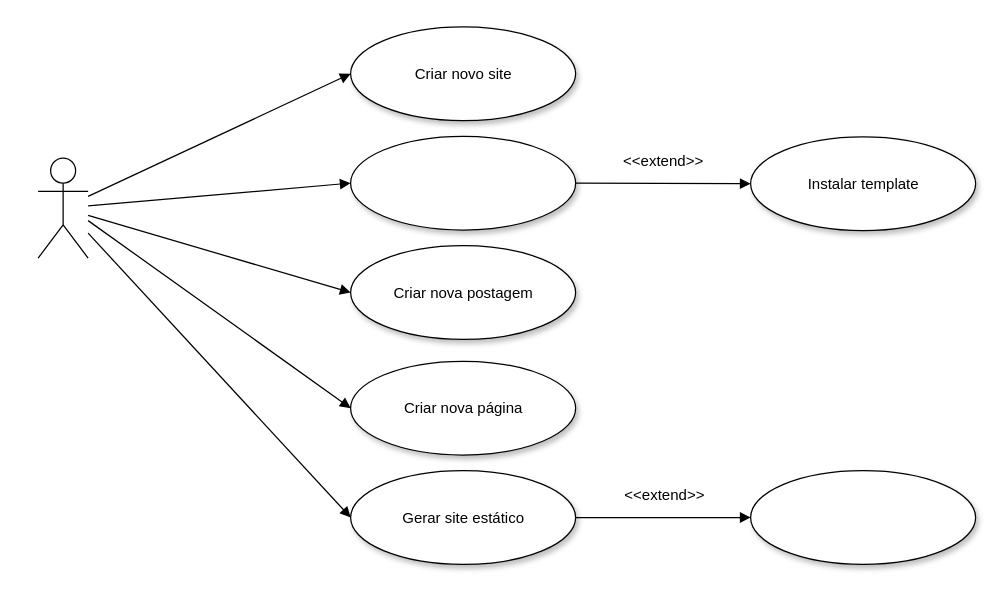
Image size: 1005x595. Some labels were removed from this diagram. Here are the shapes that lost their labels. From the top down, the centre of each, then its label:
At point 463,184: "Configurar site".
At point 62,207: "Usuário".
At point 863,518: "Rodar site estático".
